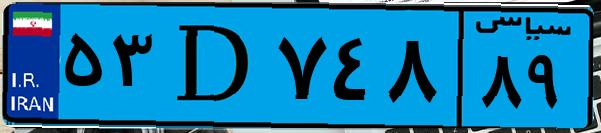3: (110, 28, 158, 98)
4: (330, 28, 385, 110)
5: (57, 26, 110, 100)
7: (270, 28, 330, 110)
8: (385, 28, 445, 110), (475, 38, 525, 113)
9: (525, 38, 570, 115)
D: (158, 12, 270, 120)
